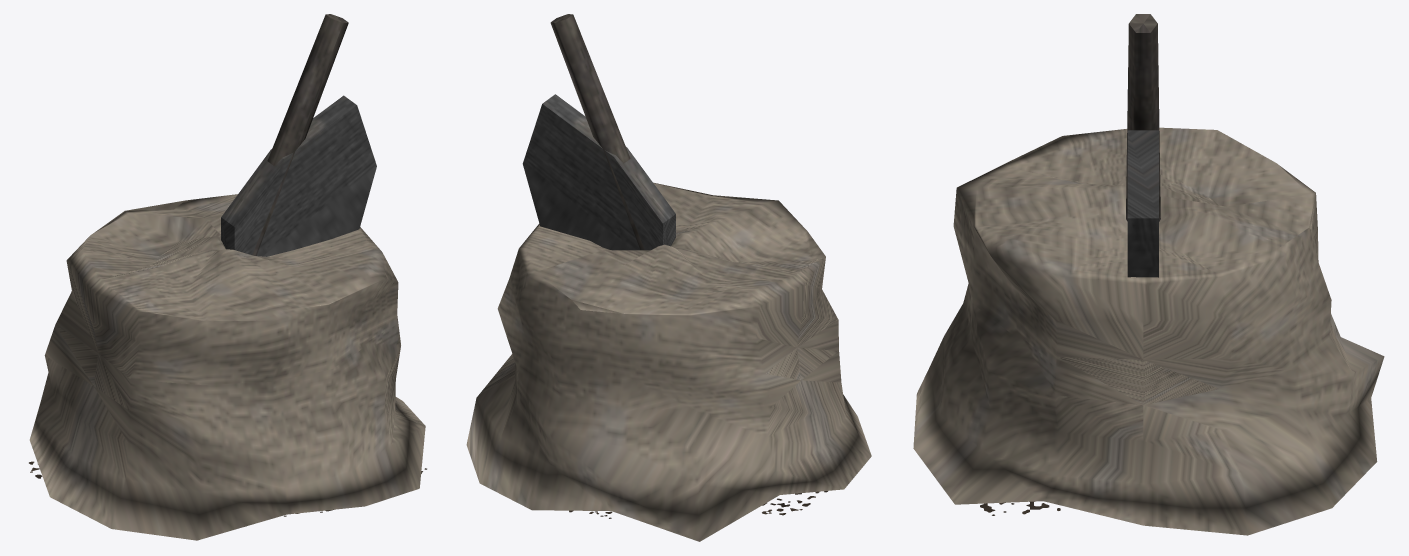
Rendered from stump_axe.glb.
3 renders of one model, left to right at view 1: azimuth 30°, elevation 25°; view 2: azimuth 150°, elevation 25°; view 3: azimuth 270°, elevation 25°, orthographic. The views are drawn at different scales.
Visible parts, largest first — view 1: stump_axe; view 2: stump_axe; view 3: stump_axe.
Boxes of the visible parts, x1=… form: stump_axe: x1=29, y1=14, x2=426, y2=540; stump_axe: x1=466, y1=14, x2=871, y2=541; stump_axe: x1=913, y1=14, x2=1384, y2=535.
Size of the model in its own units: 0.858 by 0.9498 by 0.858.
Materials: 2 (2 with a texture image).
